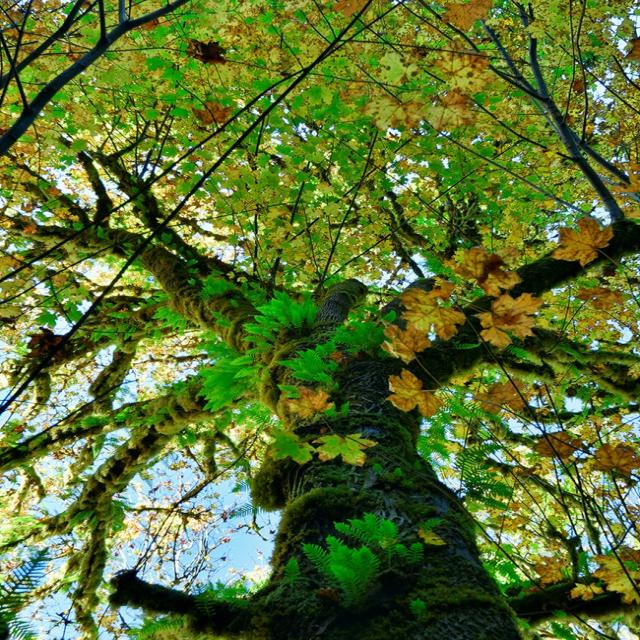Acer macrophyllum: (35, 116, 634, 640)
